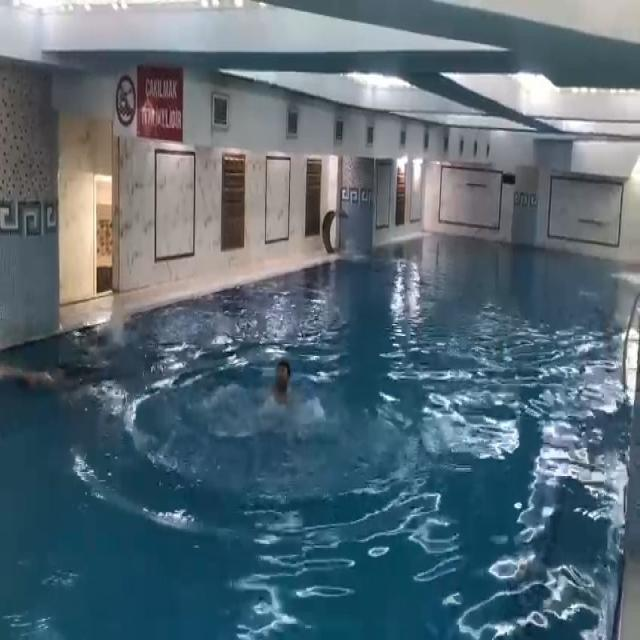Drowning: (262, 356, 301, 414)
